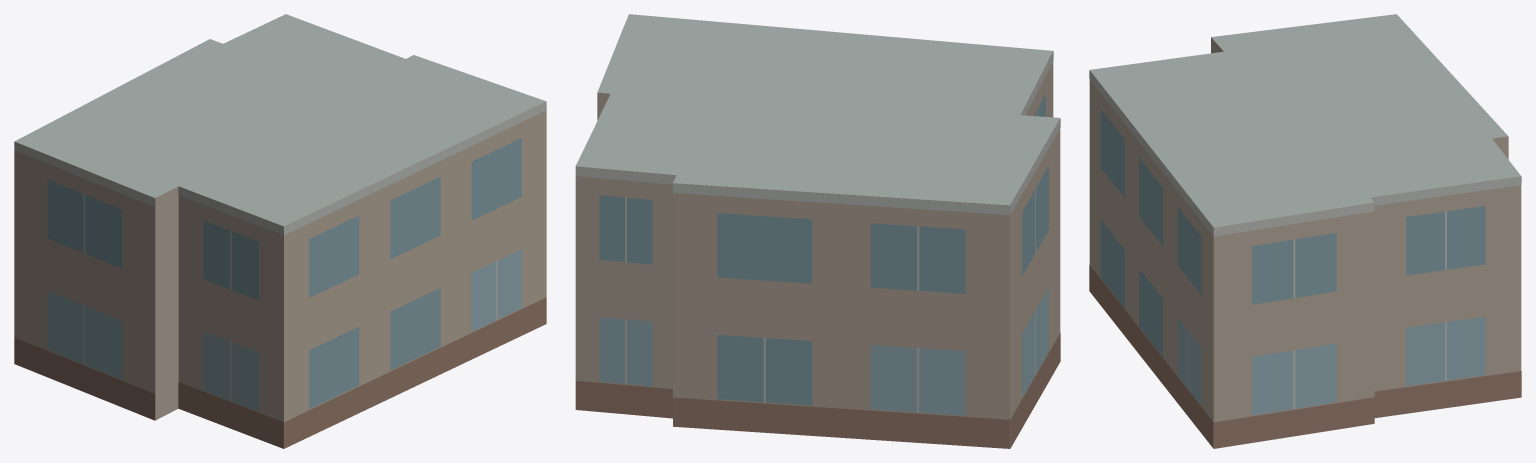
Rendered from survey-upis-32658876.glb.
3 renders of one model, left to right at view 1: azimuth 30°, elevation 25°; view 2: azimuth 150°, elevation 25°; view 3: azimuth 270°, elevation 25°, orthographic. The views are drawn at different scales.
Parts seen in each view (by area): view 1: survey-upis-32658876.tmp; view 2: survey-upis-32658876.tmp; view 3: survey-upis-32658876.tmp.
Boxes of the visible parts, bbox=[...] form: survey-upis-32658876.tmp: bbox=[14, 14, 546, 448]; survey-upis-32658876.tmp: bbox=[575, 14, 1060, 448]; survey-upis-32658876.tmp: bbox=[1089, 14, 1521, 448].
Bounding box in the file's own units: 12.65 × 6.1 × 10.81.
